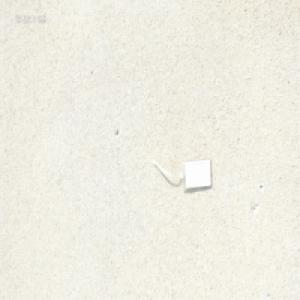LuggageTag: (152, 156, 212, 191)
